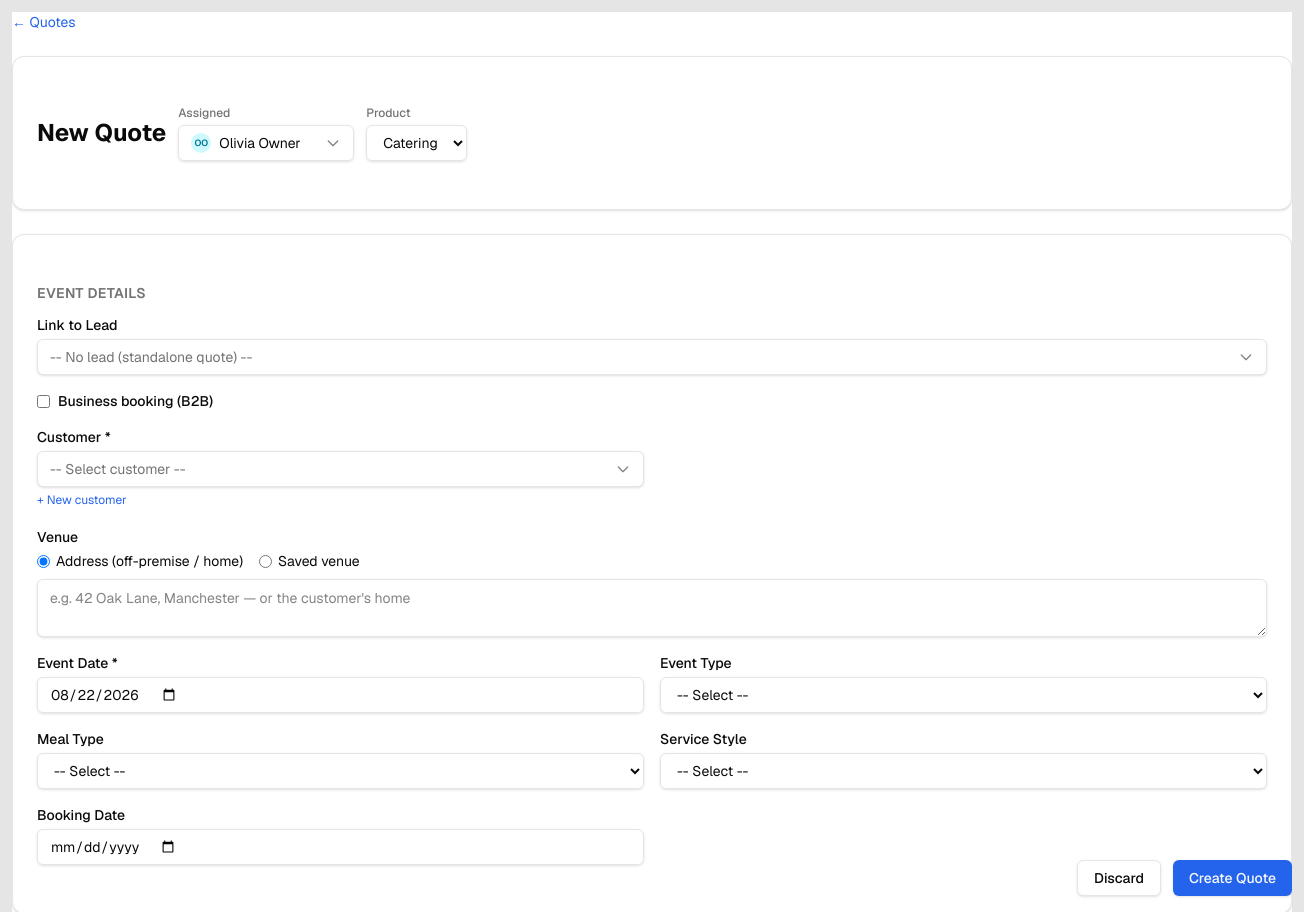
Test: Quote create — linking to a lead › can be unlinked again after choosing
Click the button with aria-label "Link to Lead" at (151, 357), box [37,339,1267,375]
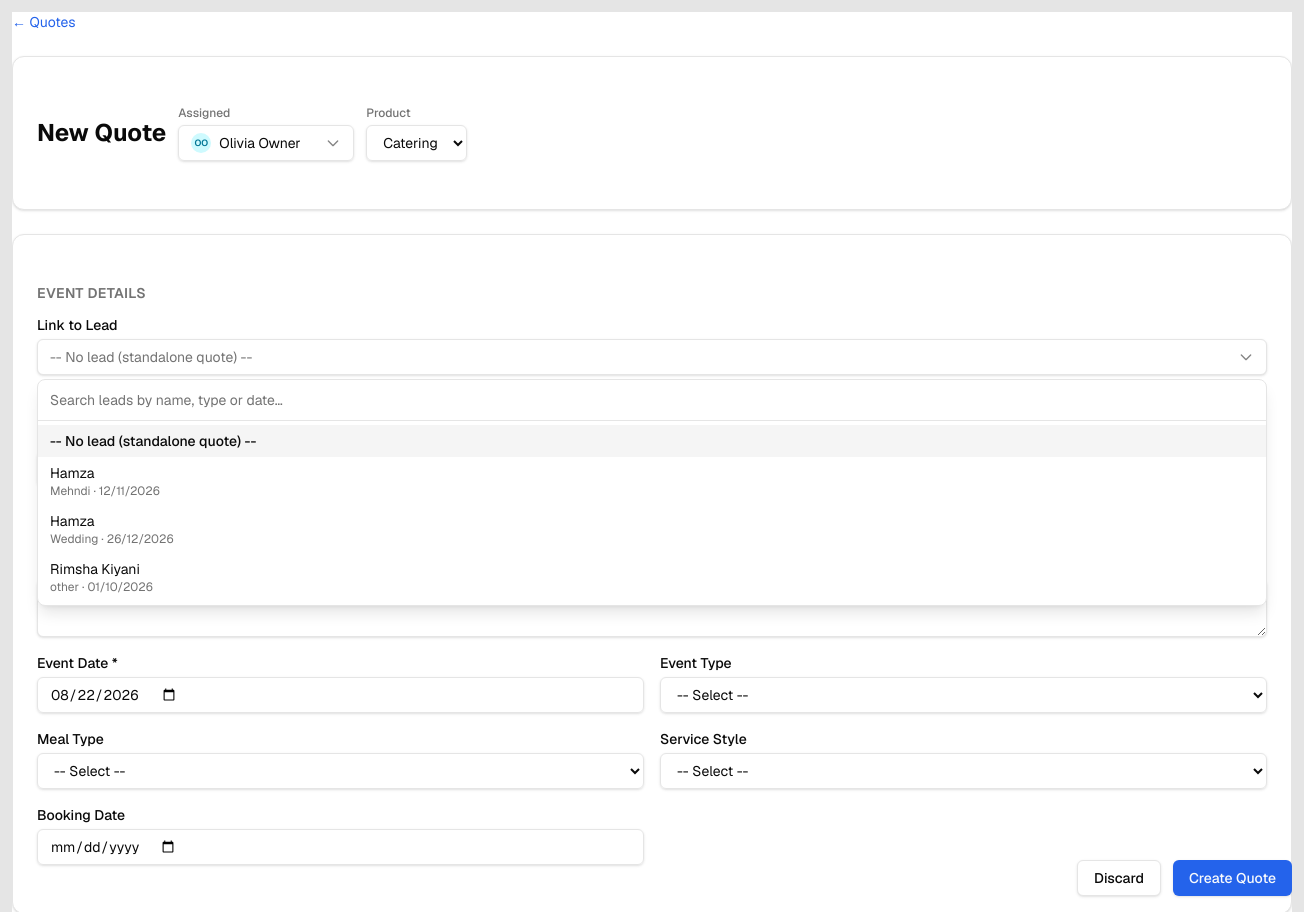
Click the text "Rimsha Kiyani" at (95, 569), box [50,559,140,579]
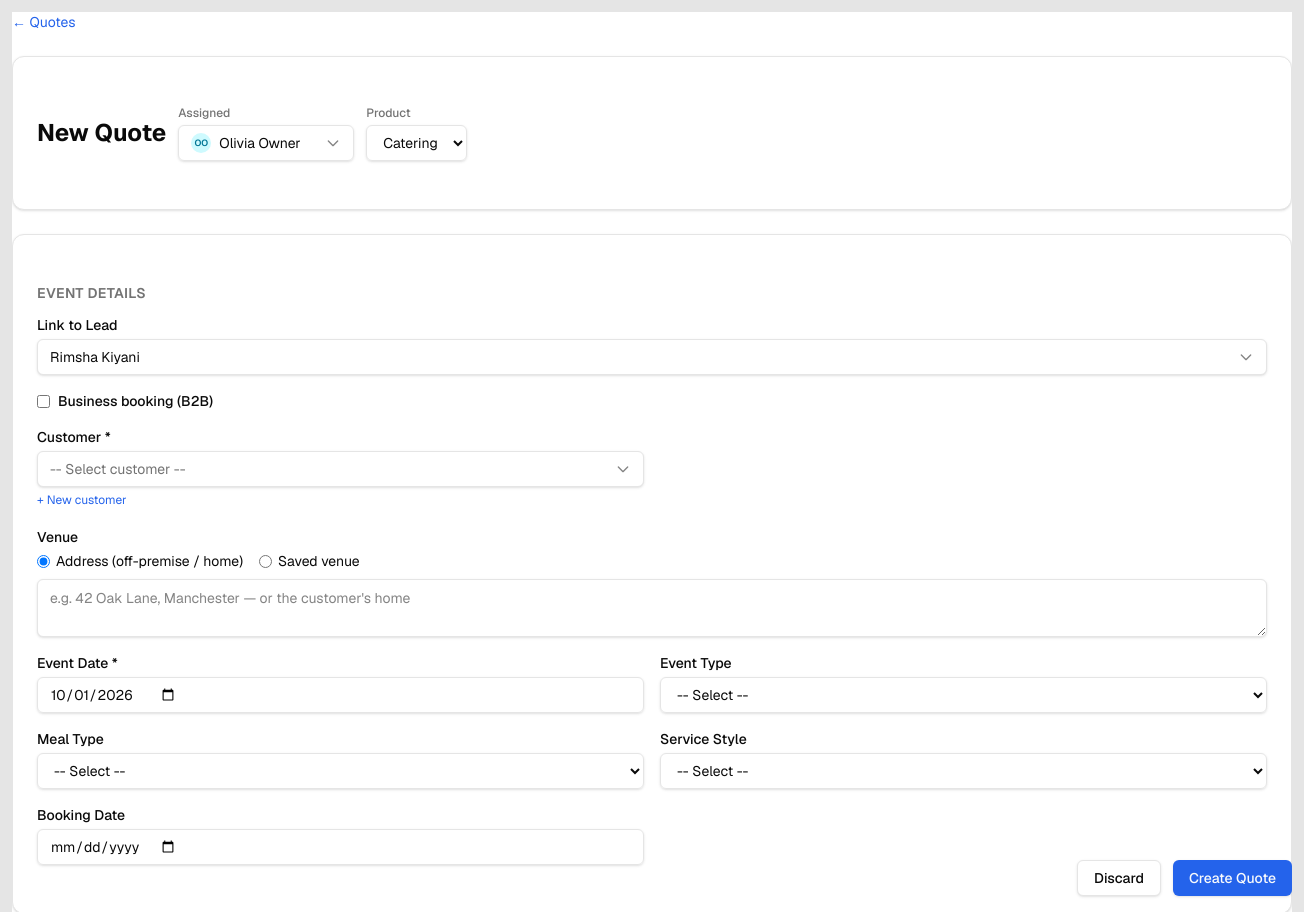
Now the button with aria-label "Link to Lead" reads "Rimsha Kiyani"
Click the button with aria-label "Link to Lead" at (95, 357), box [37,339,1267,375]
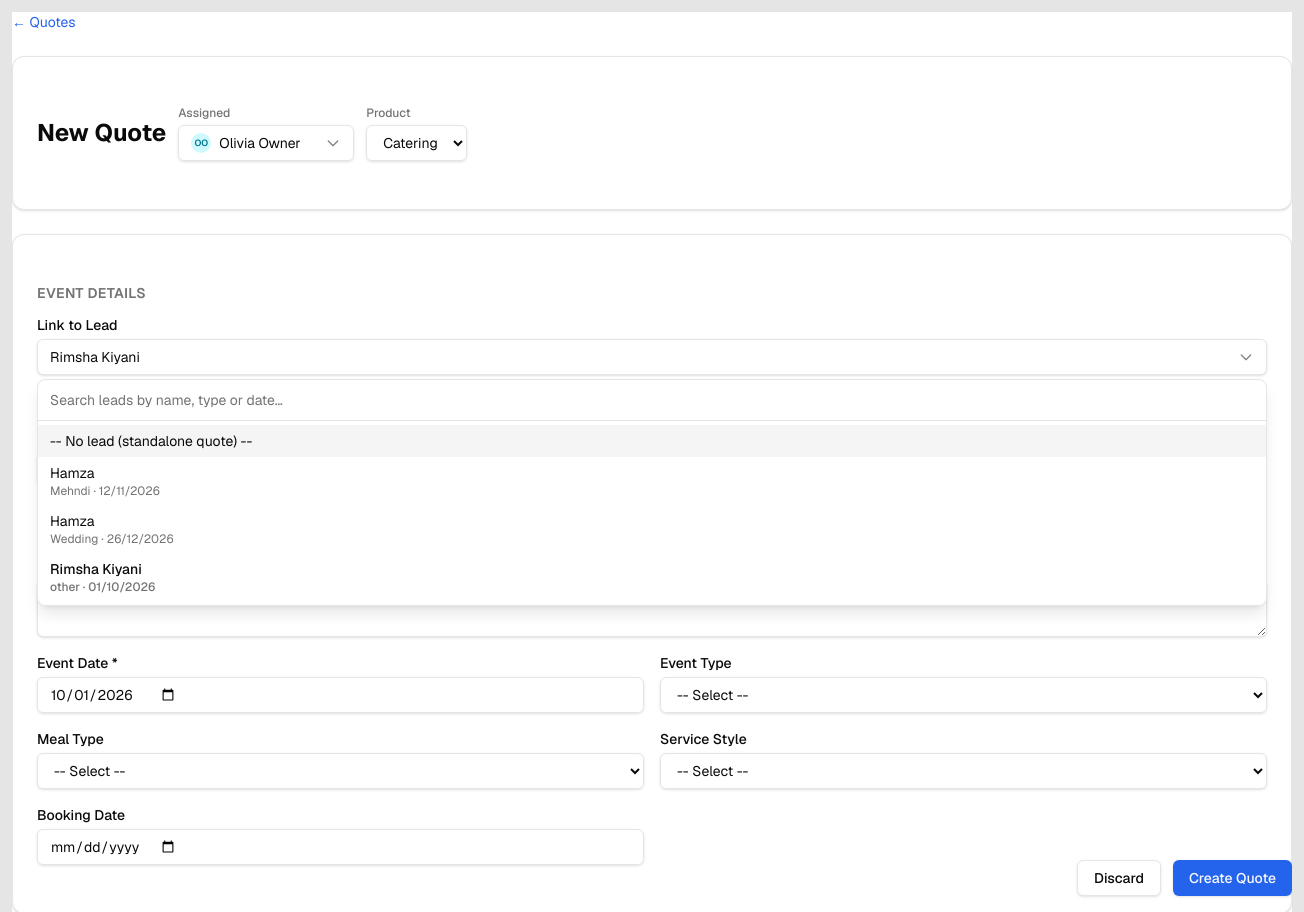
Click the option "-- No lead (standalone quote) --" at (151, 441), box [38,425,1266,457]
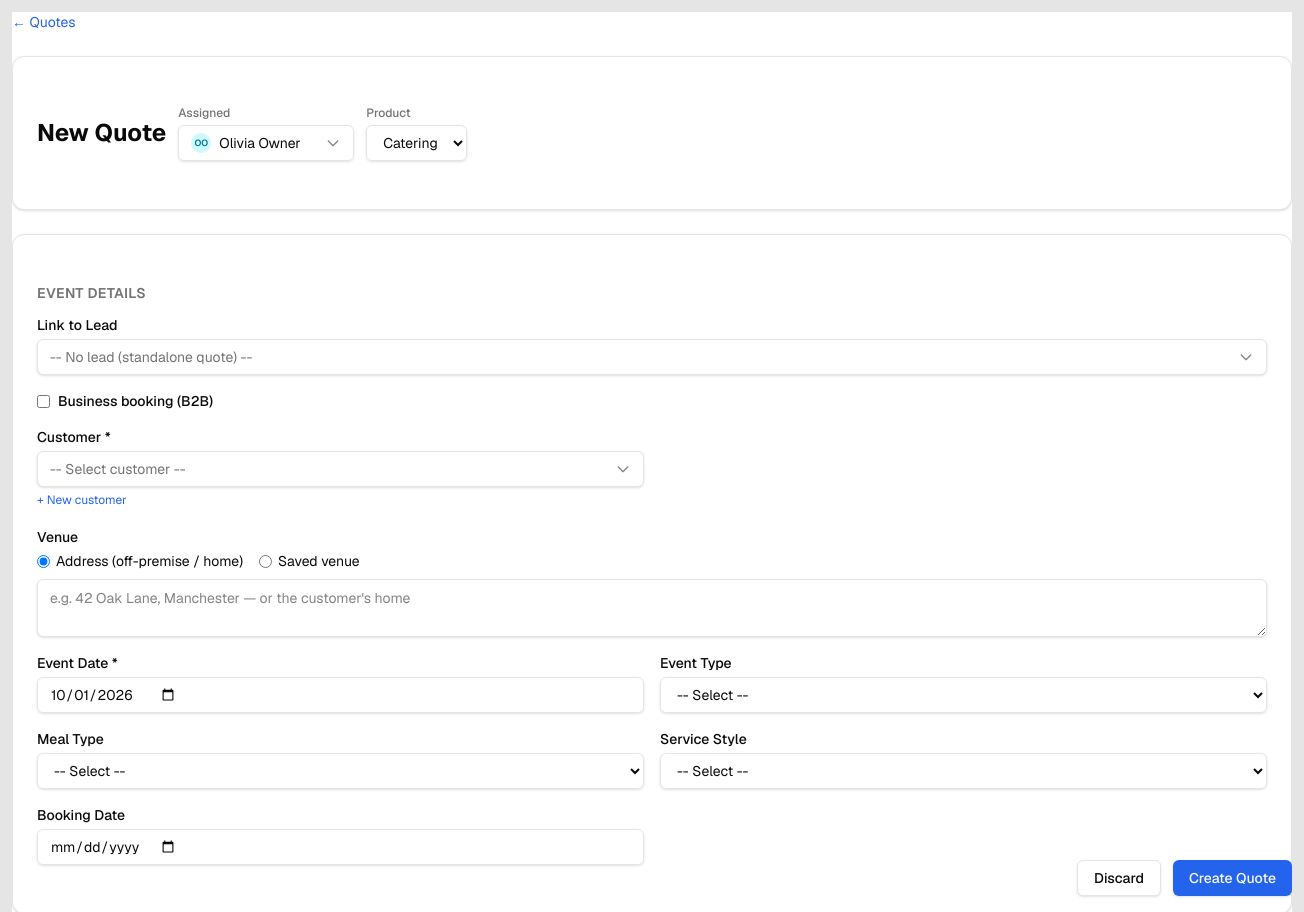
Now the button with aria-label "Link to Lead" reads "-- No lead (standalone quote) --", box [37,339,1267,375]
